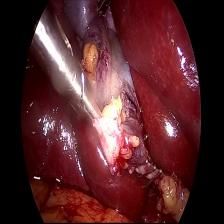Grasper: (46, 30, 106, 127)
